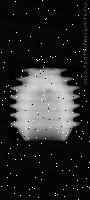Bicon: (9, 67, 80, 141)
